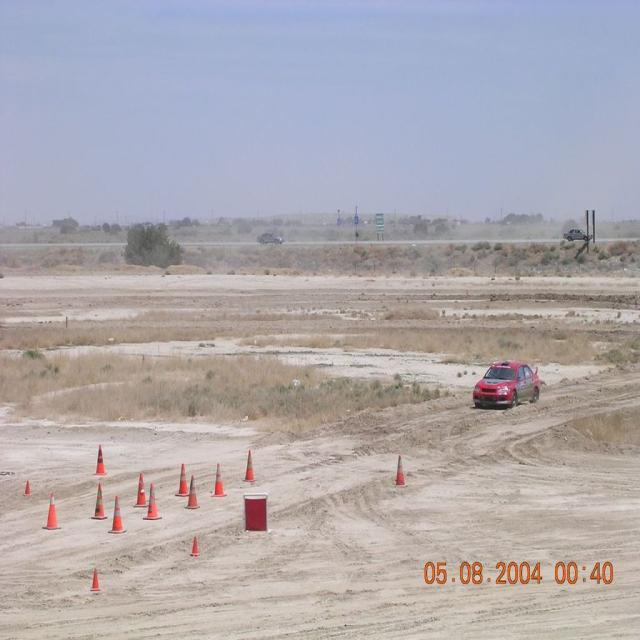car: (473, 357, 541, 411), (256, 232, 283, 243)
